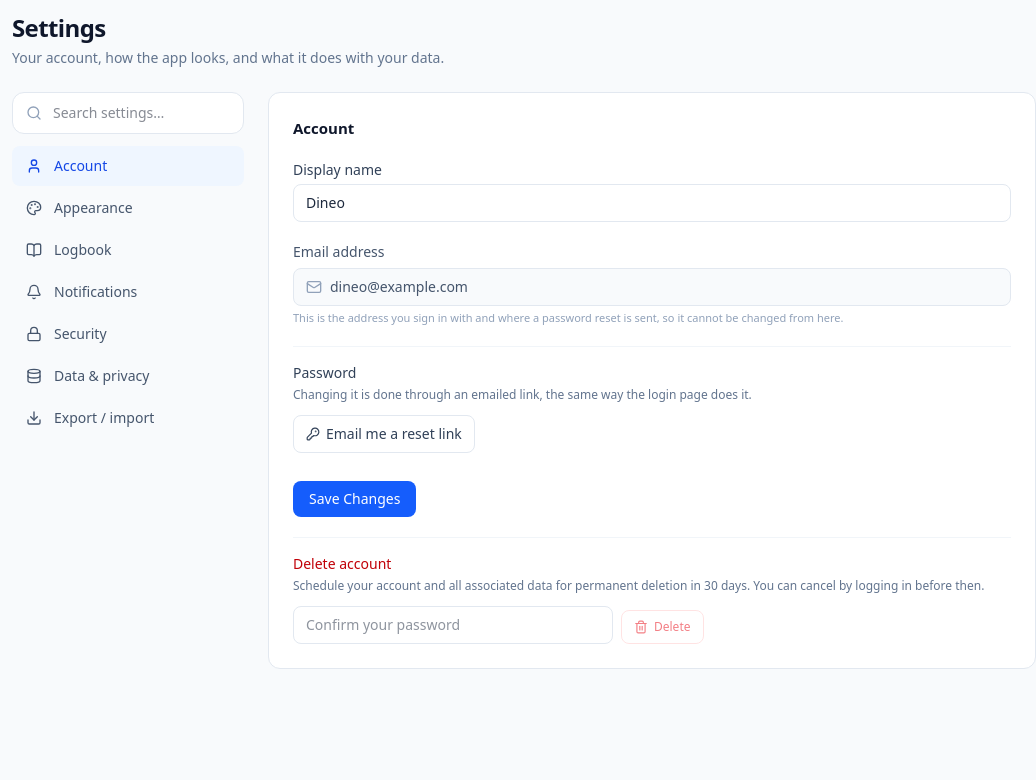
Test: SettingsPage — finding a setting › says when nothing matches
This screenshot has width=1036, height=780.
Type "zzz" into the search field labelled "Search settings" at (128, 113), box 12,92 -> 244,134
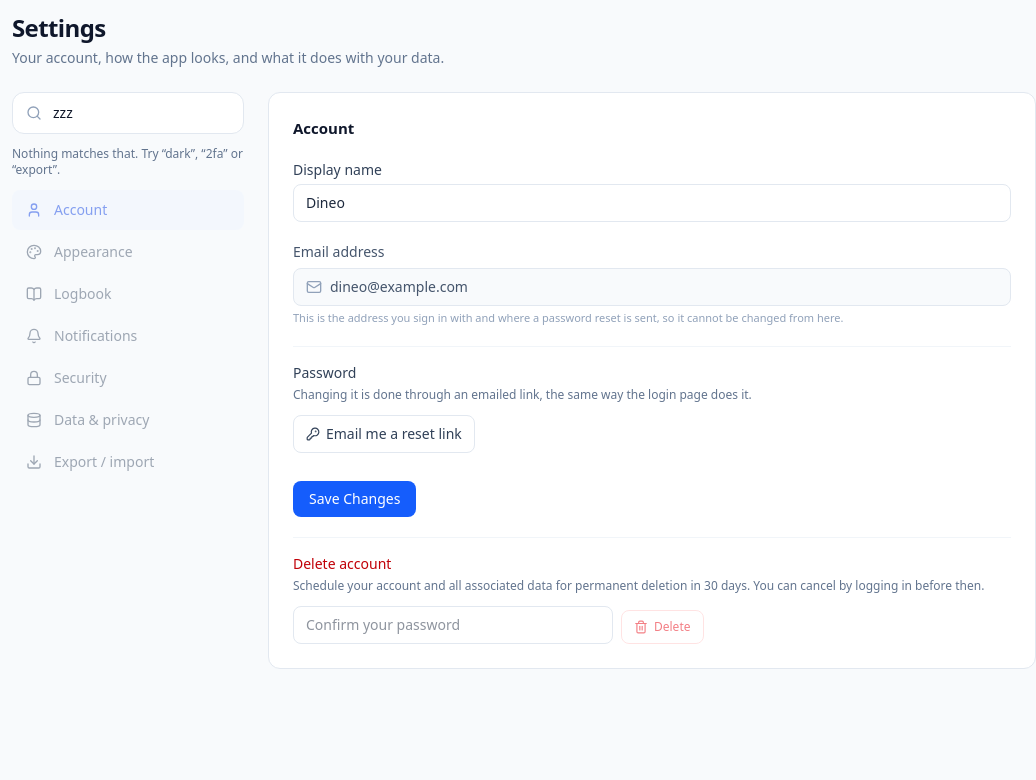
Expected: the text "Nothing matches that. Try “dark”, “2fa” or “export”." is shown, 12,146 -> 244,178
